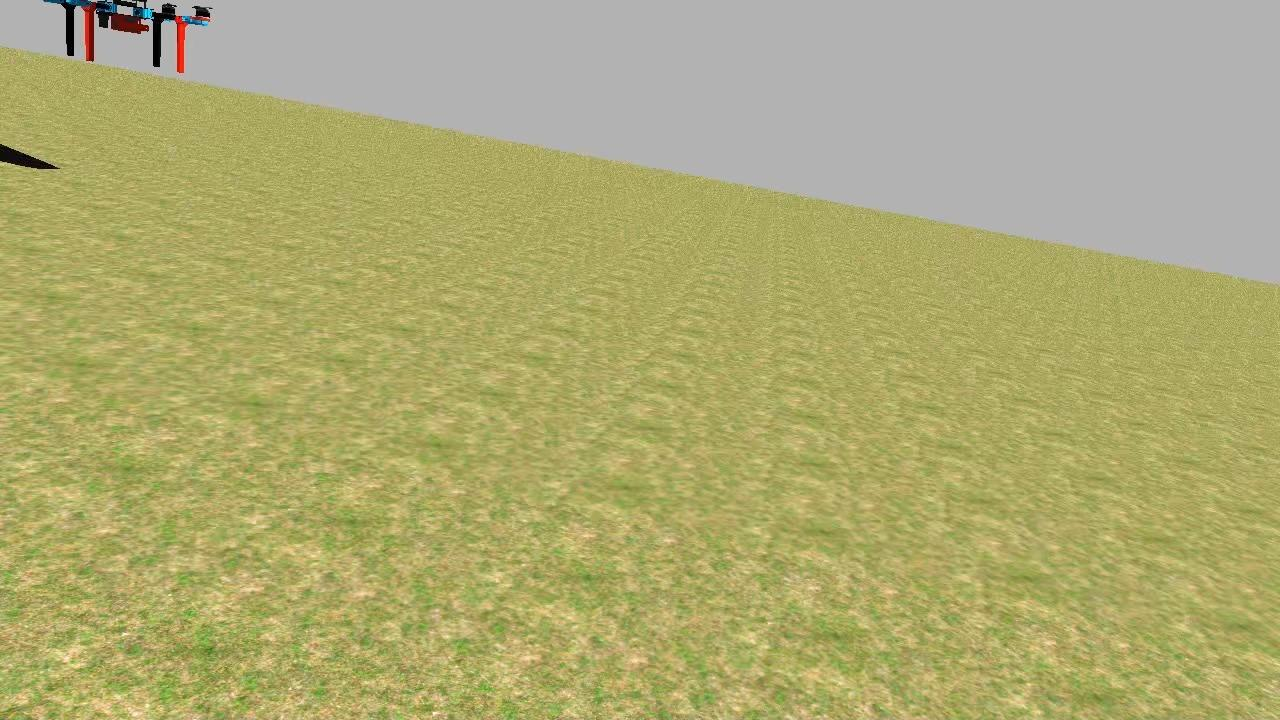UAV: (42, 0, 226, 82)
